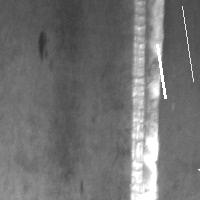scratches: (128, 1, 166, 199), (177, 1, 198, 86), (152, 39, 170, 103), (35, 28, 51, 63), (194, 149, 200, 175)
